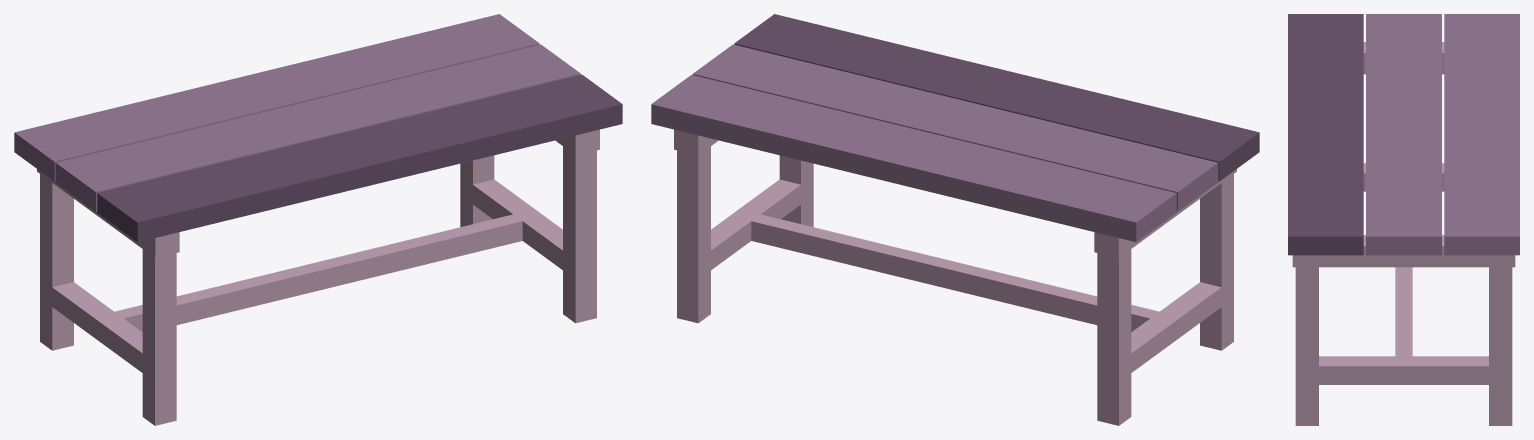
File: TW_TABLE_LONG_A_LOD0.glb
3 renders of one model, left to right at view 1: azimuth 30°, elevation 25°; view 2: azimuth 150°, elevation 25°; view 3: azimuth 270°, elevation 25°, orthographic. The views are drawn at different scales.
Visible parts, largest first — view 1: TW_TABLE_LONG_A_LOD0; view 2: TW_TABLE_LONG_A_LOD0; view 3: TW_TABLE_LONG_A_LOD0.
Part boxes in pixels (x1,y1,x2,y2): TW_TABLE_LONG_A_LOD0: (14,14,622,425); TW_TABLE_LONG_A_LOD0: (651,14,1259,425); TW_TABLE_LONG_A_LOD0: (1288,14,1519,425).
Size of the model in its own units: 1.8 by 0.75 by 0.792.
1 material, 1 textured.
